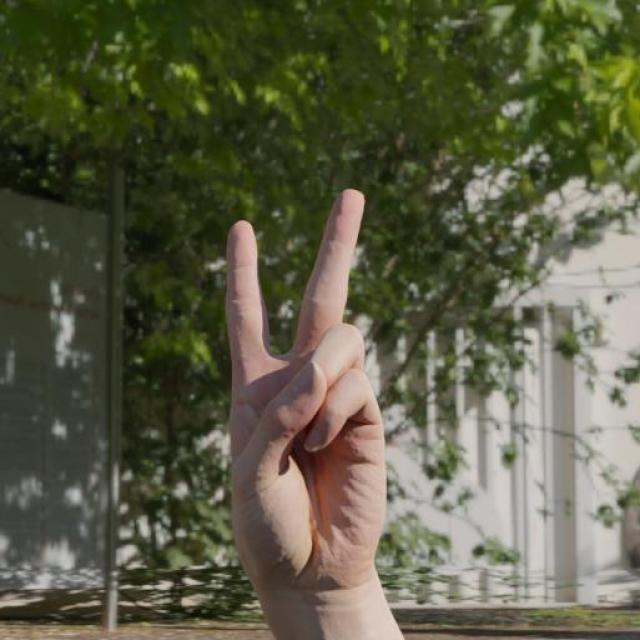V: (220, 185, 394, 601)
